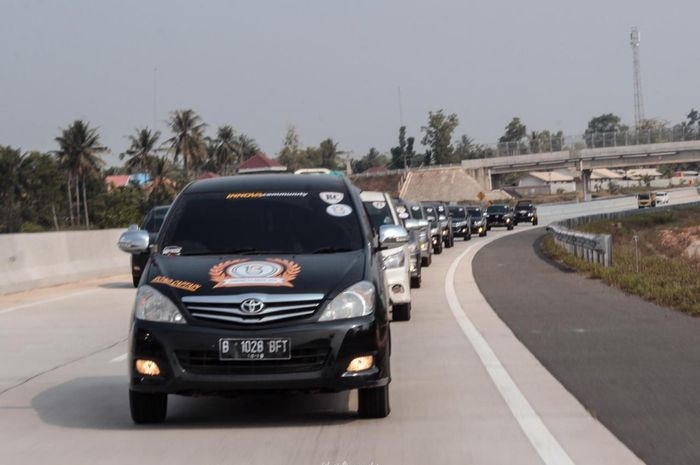plate: (220, 338, 289, 361)
